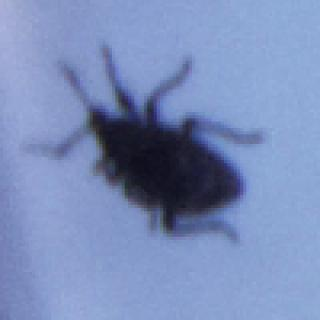bvw: (22, 41, 265, 245)
